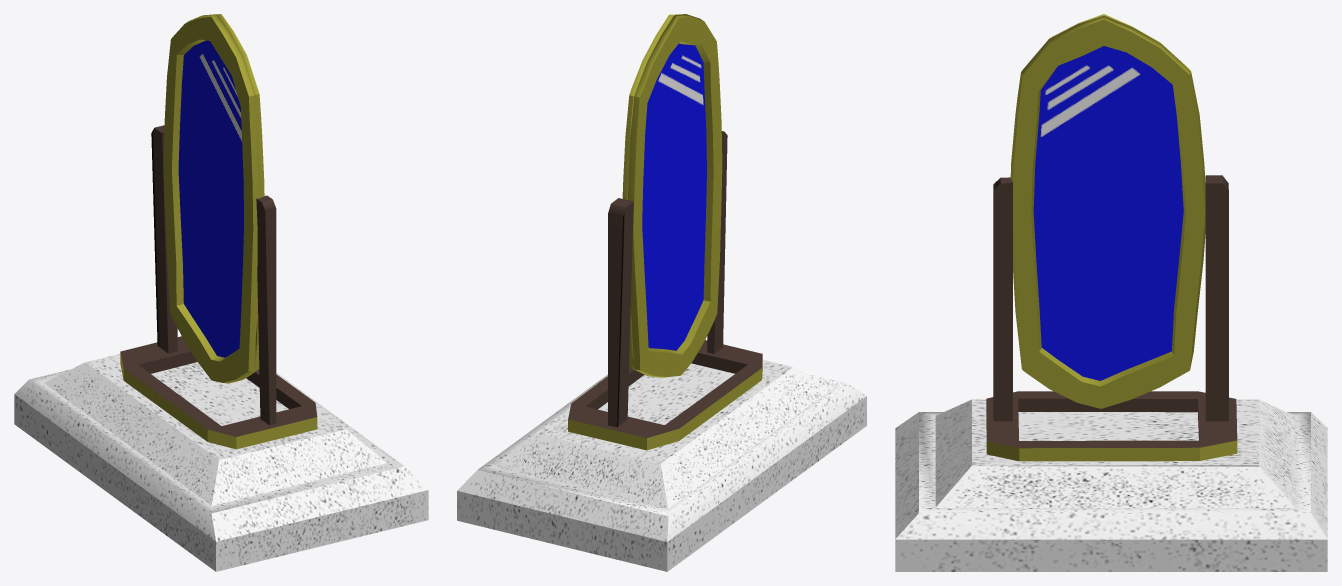
File: Light Filter.fbx
3 renders of one model, left to right at view 1: azimuth 30°, elevation 25°; view 2: azimuth 150°, elevation 25°; view 3: azimuth 270°, elevation 25°, orthographic. The views are drawn at different scales.
Parts seen in each view (by area): view 1: Light_Filter; view 2: Light_Filter; view 3: Light_Filter.
Part boxes in pixels (x1,y1,x2,y2): Light_Filter: (14,14,428,571); Light_Filter: (457,14,866,571); Light_Filter: (895,14,1327,571).
Size of the model in its own units: 1.78 by 3.7 by 2.93.
